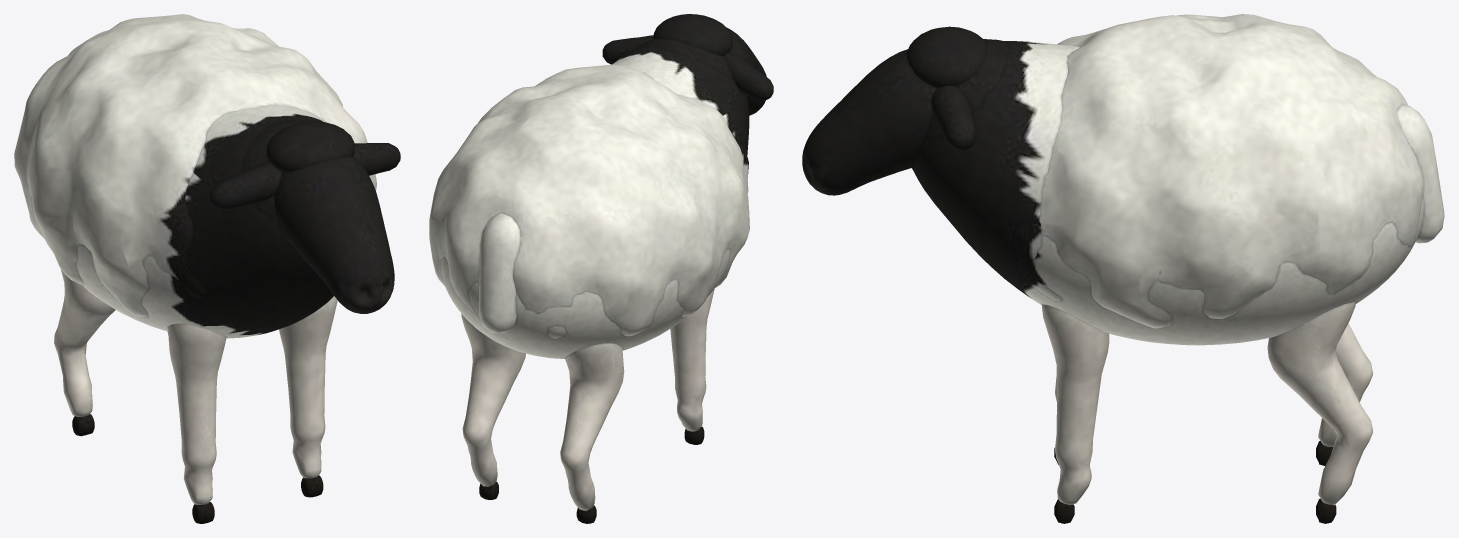
Rendered from animal_dorper.glb.
3 views of the same model, side by side, from view 1: azimuth 30°, elevation 25°; view 2: azimuth 150°, elevation 25°; view 3: azimuth 270°, elevation 25° (orthographic). The views are drawn at different scales.
Visible parts, largest first — view 1: animal_dorper, head, leg0, leg1, leg2; view 2: animal_dorper, leg2, leg3, head, tail, leg0; view 3: animal_dorper, head, leg3, leg1, tail, leg2.
Part boxes in pixels (bbox=[...]): animal_dorper: bbox=[14, 14, 376, 338]; head: bbox=[209, 121, 400, 313]; leg0: bbox=[168, 324, 226, 523]; leg1: bbox=[279, 296, 337, 497]; leg2: bbox=[54, 269, 115, 436]; animal_dorper: bbox=[429, 38, 749, 358]; leg2: bbox=[560, 343, 624, 523]; leg3: bbox=[461, 314, 525, 499]; head: bbox=[602, 14, 773, 115]; tail: bbox=[478, 213, 520, 333]; leg0: bbox=[670, 289, 714, 444]; animal_dorper: bbox=[912, 14, 1423, 345]; head: bbox=[802, 26, 986, 195]; leg3: bbox=[1267, 302, 1372, 523]; leg1: bbox=[1041, 304, 1109, 523]; tail: bbox=[1396, 105, 1444, 243]; leg2: bbox=[1316, 323, 1372, 465].
Size of the model in its own units: 0.2944 by 0.4136 by 0.5169.
1 material, 1 textured.
